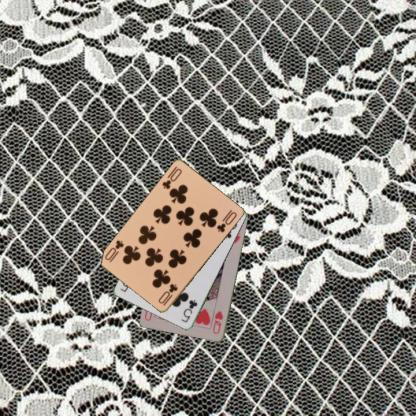10c: (156, 282, 179, 308), (160, 166, 183, 190)
5c: (178, 298, 198, 324)
Qh: (210, 308, 224, 336)
